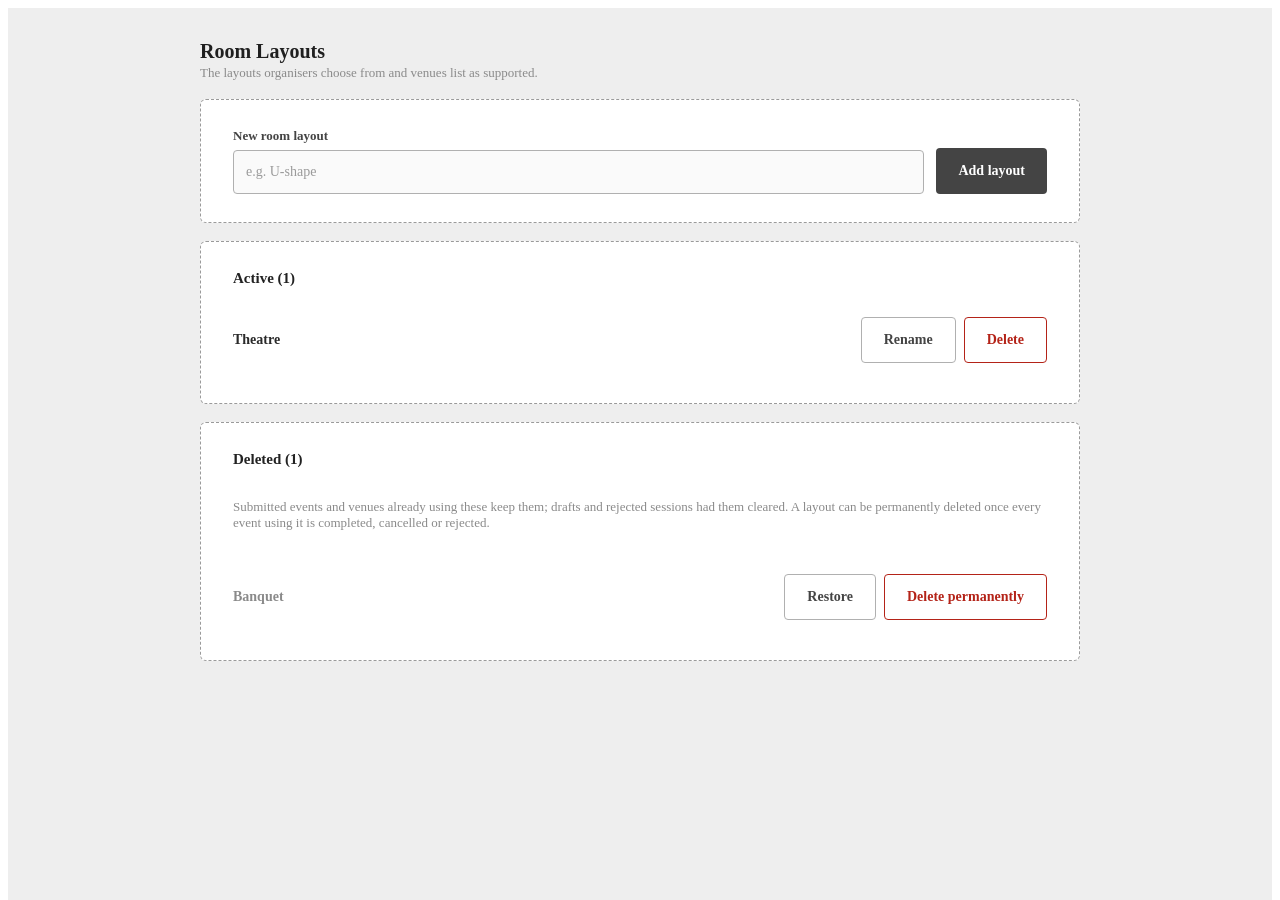
Scenario: RoomLayoutsView › adds a layout and reloads the list
Step 1. Type "  U-shape " into the field labelled "New room layout" → [579, 172], box [233, 150, 924, 194]
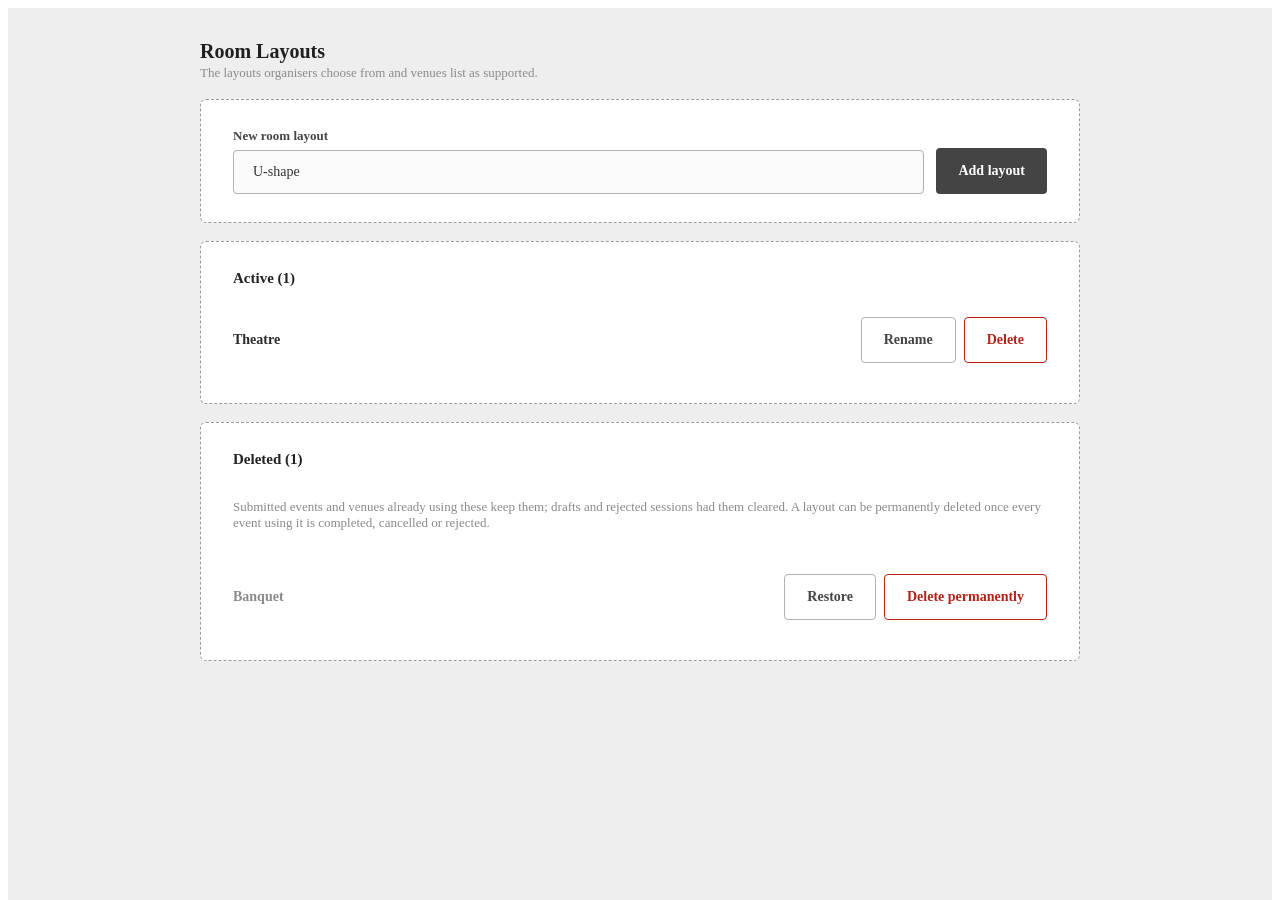
Step 2. Submit the form, box [200, 99, 1080, 223]
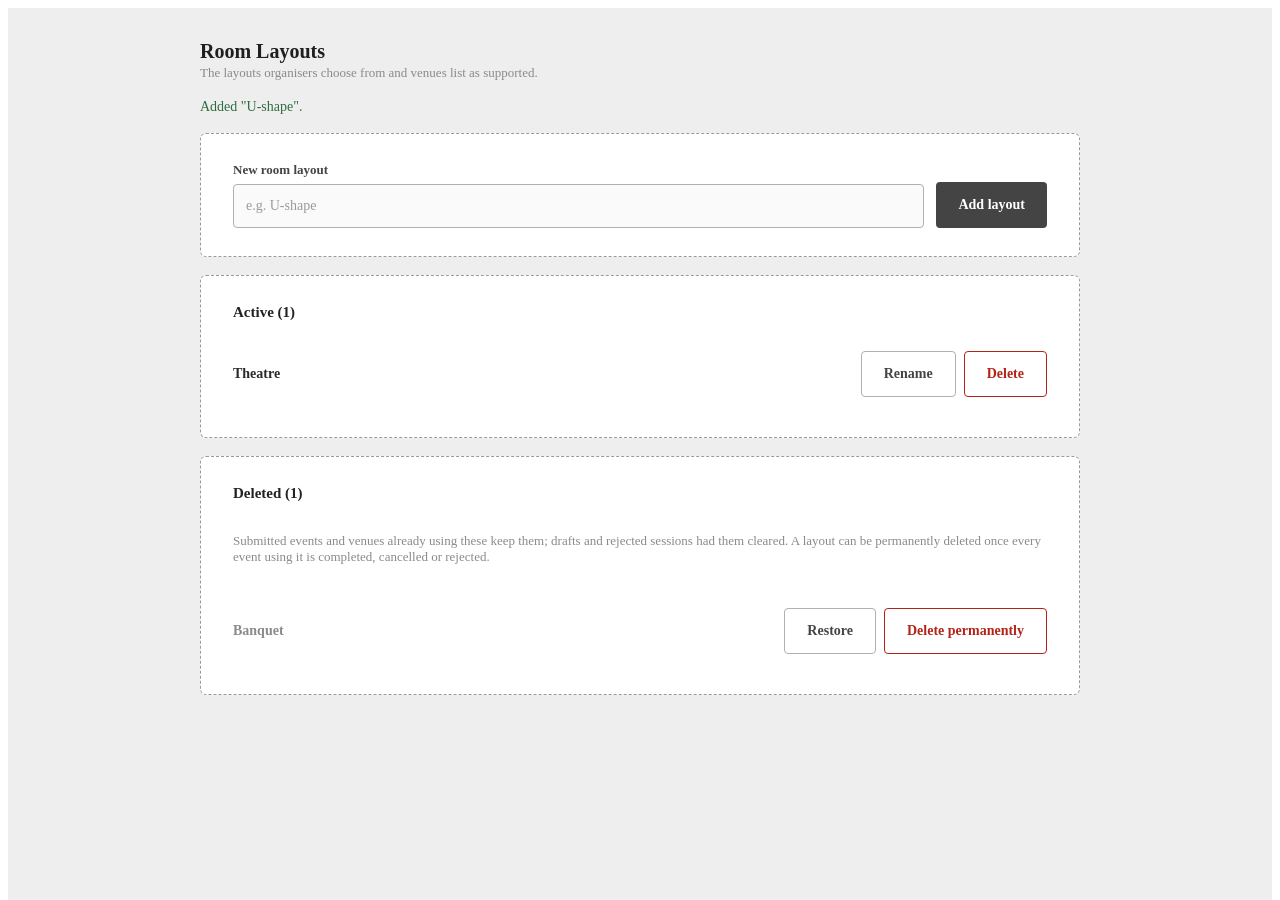
Now the text "Added \"U-shape\"." is shown, box [200, 99, 302, 114]
